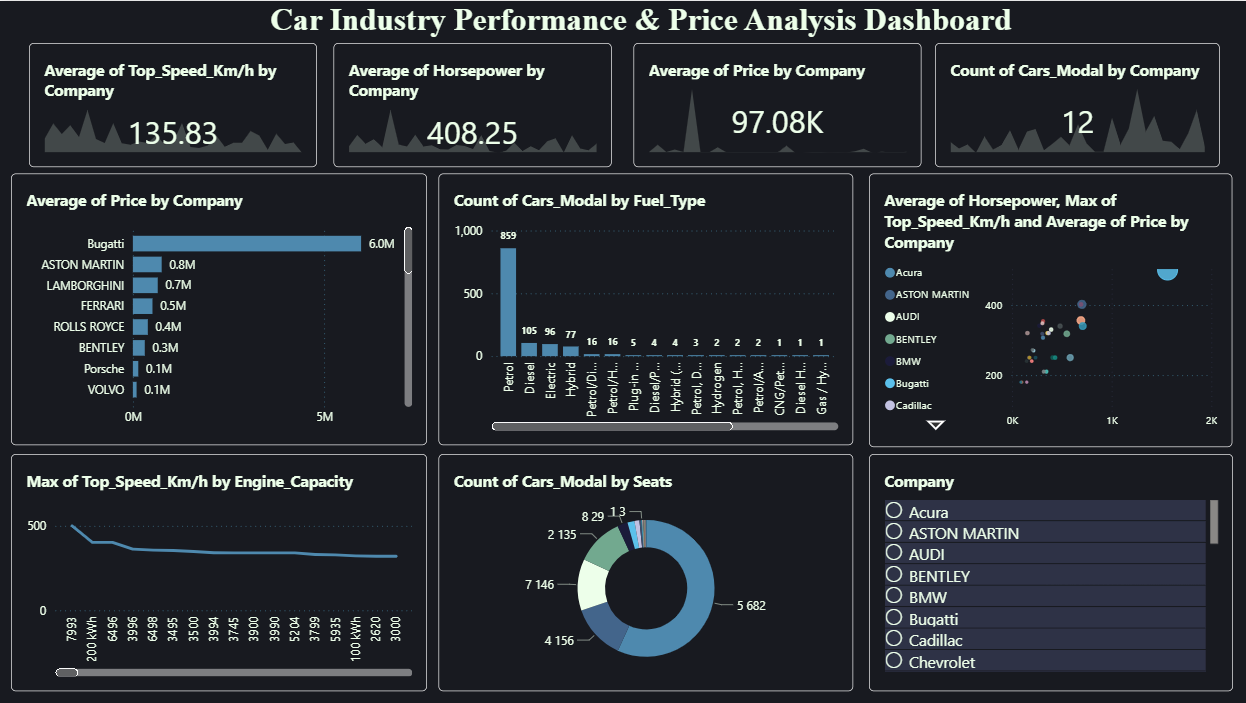

The dashboard page shown, as its layout file describes it:
{"tool":"powerbi","page":{"name":"Page 1","canvas":[1280,720],"ordinal":0},"visuals":[{"type":"textbox","box":[278.3,0,768.3,43.3],"z":0},{"type":"kpi","fields":{"Indicator":["CountNonNull(Cars Datasets 2025.Cars_Modal)"],"TrendLine":["Cars Datasets 2025.Company"]},"box":[959.7,43,292.2,127.5],"z":1000},{"type":"kpi","fields":{"Indicator":["Avg(Cars Datasets 2025.Price)"],"TrendLine":["Cars Datasets 2025.Company"]},"box":[650.3,43,295.1,127.5],"z":2000},{"type":"kpi","fields":{"Indicator":["Avg(Cars Datasets 2025.Horsepower)"],"TrendLine":["Cars Datasets 2025.Company"]},"box":[343.8,43,285,127.5],"z":3000},{"type":"kpi","fields":{"Indicator":["Avg(Cars Datasets 2025.Top_Speed_Km/h)"],"TrendLine":["Cars Datasets 2025.Company"]},"box":[30.1,43,295.1,127.5],"z":4000},{"type":"clusteredBarChart","fields":{"Category":["Cars Datasets 2025.Company"],"Y":["Avg(Cars Datasets 2025.Price)"]},"box":[11.7,176.7,426.7,278.3],"z":5000},{"type":"clusteredColumnChart","fields":{"Category":["Cars Datasets 2025.Fuel_Type"],"Y":["CountNonNull(Cars Datasets 2025.Cars_Modal)"]},"box":[450,176.7,425,278.3],"z":6000},{"type":"scatterChart","fields":{"X":["Avg(Cars Datasets 2025.Horsepower)"],"Y":["Max(Cars Datasets 2025.Top_Speed_Km/h)"],"Series":["Cars Datasets 2025.Company"],"Size":["Avg(Cars Datasets 2025.Price)"]},"box":[892.4,176.2,372.4,280.7],"z":7000},{"type":"lineChart","fields":{"Category":["Cars Datasets 2025.Engine_Capacity"],"Y":["Max(Cars Datasets 2025.Top_Speed_Km/h)"]},"box":[11.7,465,426.7,243.3],"z":8000},{"type":"donutChart","fields":{"Category":["Cars Datasets 2025.Seats"],"Y":["CountNonNull(Cars Datasets 2025.Cars_Modal)"]},"box":[450,465,425,243.3],"z":9000},{"type":"listSlicer","fields":{"Values":["Cars Datasets 2025.Company"]},"box":[891.7,465,373.3,243.3],"z":10000}]}

Visuals, with their boxes in screenshot pixels (x1, y1, x2, y2), scaled from the page's 1280x720 canvas onto the 1246x703 screenshot:
textbox: BBox(271, 0, 1019, 42)
kpi - CountNonNull(Cars Datasets 2025.Cars_Modal) x Cars Datasets 2025.Company: BBox(934, 42, 1219, 166)
kpi - Avg(Cars Datasets 2025.Price) x Cars Datasets 2025.Company: BBox(633, 42, 920, 166)
kpi - Avg(Cars Datasets 2025.Horsepower) x Cars Datasets 2025.Company: BBox(335, 42, 612, 166)
kpi - Avg(Cars Datasets 2025.Top_Speed_Km/h) x Cars Datasets 2025.Company: BBox(29, 42, 317, 166)
clusteredBarChart - Cars Datasets 2025.Company x Avg(Cars Datasets 2025.Price): BBox(11, 173, 427, 444)
clusteredColumnChart - Cars Datasets 2025.Fuel_Type x CountNonNull(Cars Datasets 2025.Cars_Modal): BBox(438, 173, 852, 444)
scatterChart - Avg(Cars Datasets 2025.Horsepower) x Max(Cars Datasets 2025.Top_Speed_Km/h): BBox(869, 172, 1231, 446)
lineChart - Cars Datasets 2025.Engine_Capacity x Max(Cars Datasets 2025.Top_Speed_Km/h): BBox(11, 454, 427, 692)
donutChart - Cars Datasets 2025.Seats x CountNonNull(Cars Datasets 2025.Cars_Modal): BBox(438, 454, 852, 692)
listSlicer - Cars Datasets 2025.Company: BBox(868, 454, 1231, 692)
